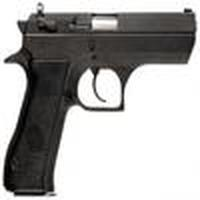gun: (5, 4, 200, 195)
